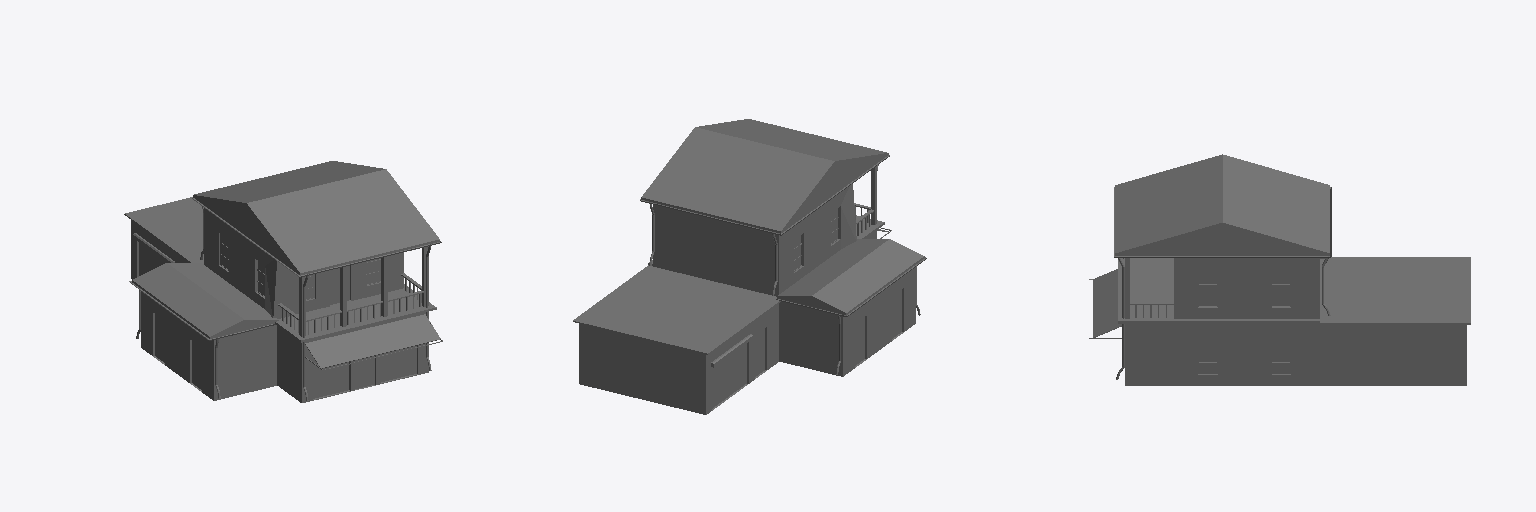
File: LPBuildX13r.obj
3 renders of one model, left to right at view 1: azimuth 30°, elevation 25°; view 2: azimuth 150°, elevation 25°; view 3: azimuth 270°, elevation 25°, orthographic.
Parts seen in each view (by area): view 1: LPBldX13r_0; view 2: LPBldX13r_0; view 3: LPBldX13r_0.
Boxes of the visible parts, <box> form: LPBldX13r_0: <box>124,161,442,402</box>; LPBldX13r_0: <box>573,119,926,414</box>; LPBldX13r_0: <box>1089,154,1470,385</box>.
Bounding box in the file's own units: 97.37 × 75.05 × 157.